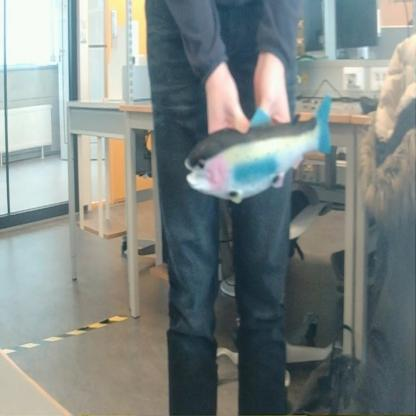rubberfish: (181, 89, 337, 207)
